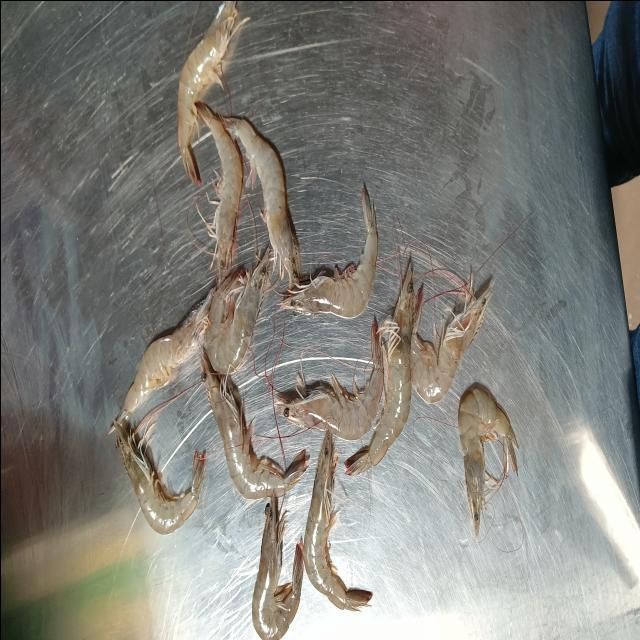shrimp: (196, 361, 306, 505), (340, 261, 408, 476), (271, 319, 379, 443), (214, 126, 295, 290), (112, 299, 208, 434), (169, 0, 235, 195), (274, 188, 370, 321), (300, 432, 370, 611), (404, 273, 486, 401), (110, 432, 202, 543), (452, 383, 512, 532), (188, 111, 236, 286), (200, 253, 264, 381), (250, 501, 301, 640), (365, 341, 382, 366), (484, 485, 490, 503)
